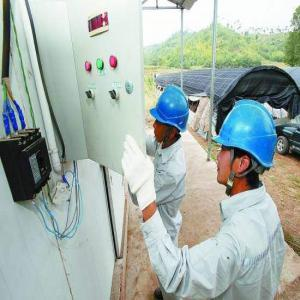blue: (215, 101, 276, 195), (151, 81, 190, 146)
